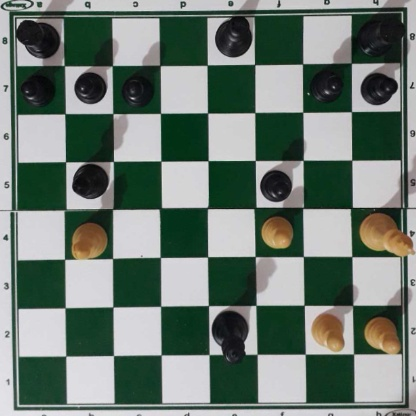black-bishop: (69, 163, 111, 199)
black-king: (212, 14, 254, 56)
black-pawn: (359, 69, 396, 105), (20, 71, 54, 104), (309, 67, 342, 101), (260, 167, 292, 201), (73, 70, 104, 104), (121, 71, 152, 105)
black-queen: (212, 309, 250, 365)
black-rook: (13, 15, 61, 58), (358, 13, 405, 55)
white-bishop: (70, 223, 107, 259)
white-king: (358, 214, 414, 256)
white-pawn: (309, 311, 346, 352), (363, 315, 400, 353), (259, 213, 294, 251)
